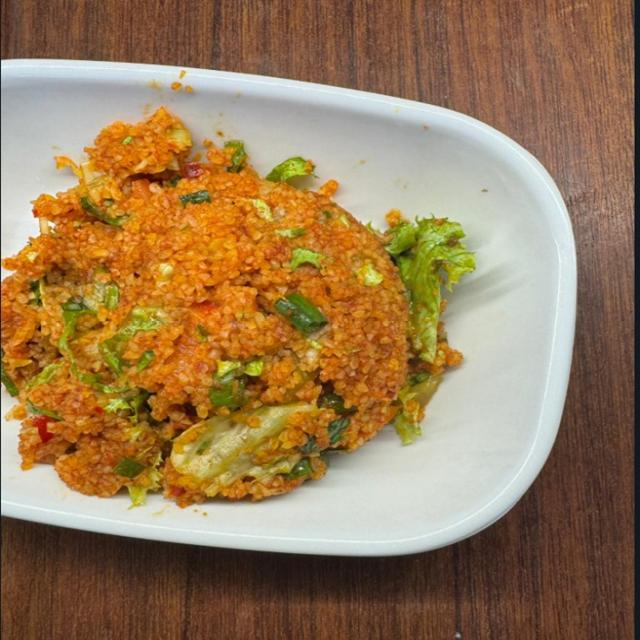yan_yemek: (1, 104, 469, 508)
